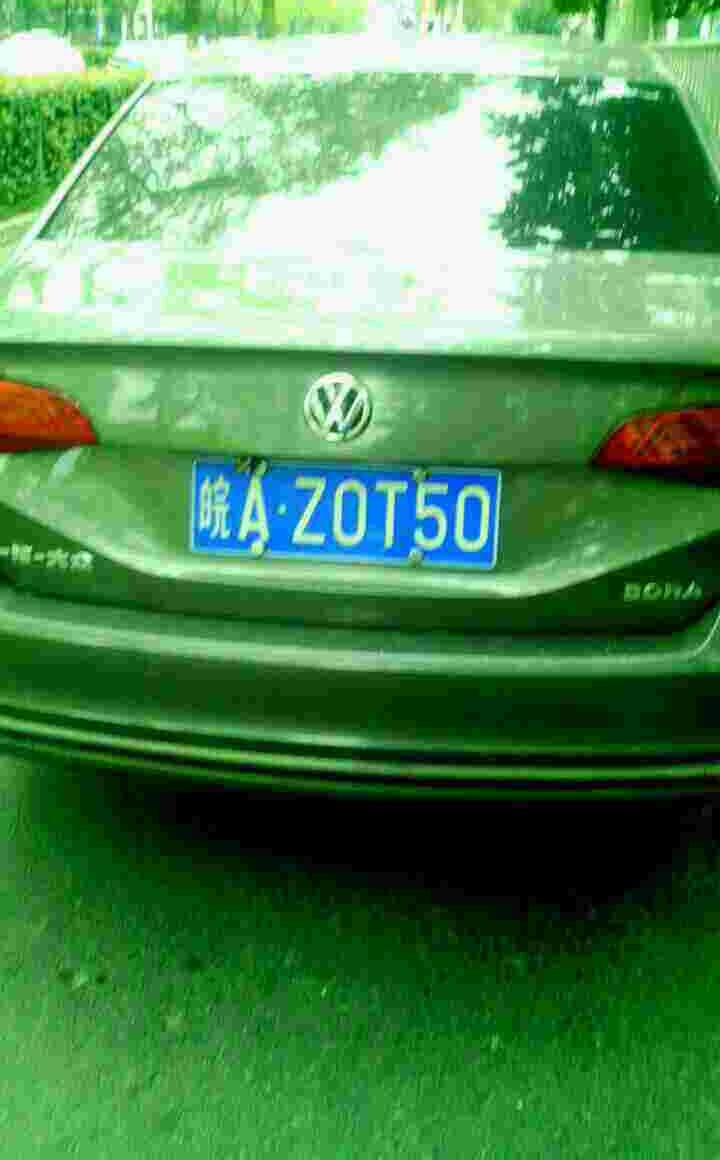license_plate: (190, 461, 511, 566)
